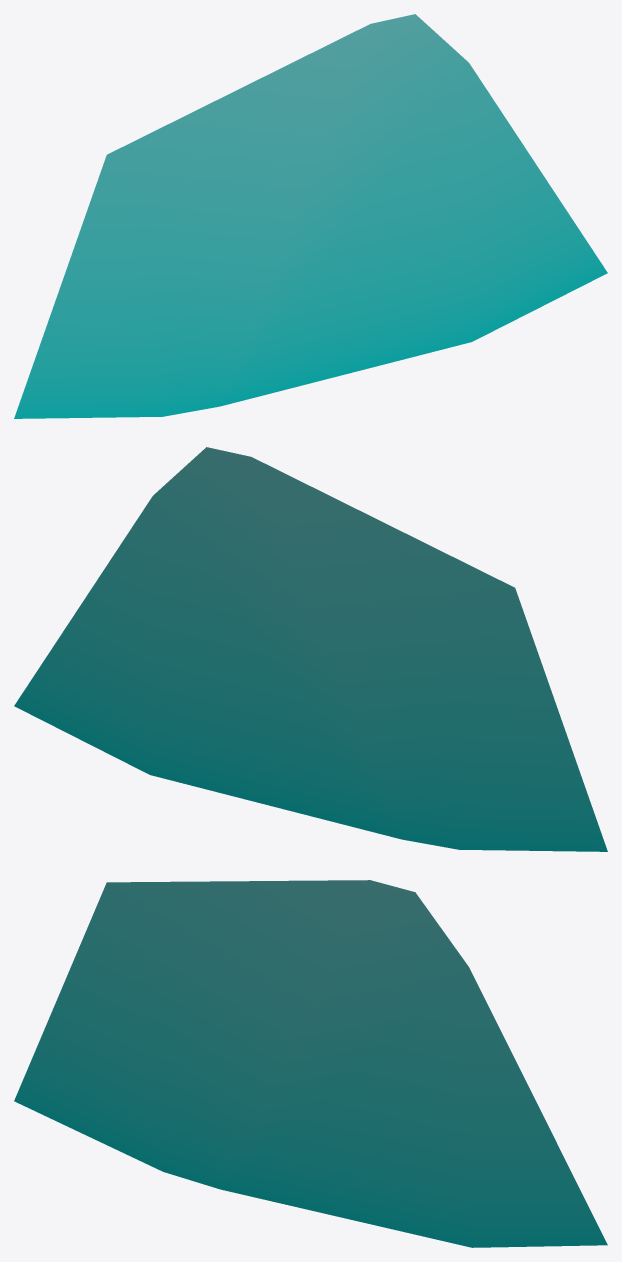
Rendered from Dead_Shrubs_vdknafgha_Low_vdknafgha_VarG_LOD3.fbx.
3 views of the same model, one above another, from view 1: azimuth 30°, elevation 25°; view 2: azimuth 150°, elevation 25°; view 3: azimuth 330°, elevation 25° (orthographic).
Visible parts, largest first — view 1: _6u26_VarG_LOD4; view 2: _6u26_VarG_LOD4; view 3: _6u26_VarG_LOD4.
Boxes of the visible parts, x1,y1,x2,y2 form: _6u26_VarG_LOD4: (14, 14, 607, 418); _6u26_VarG_LOD4: (14, 447, 607, 851); _6u26_VarG_LOD4: (14, 880, 607, 1247).
Size of the model in its own units: 118 by 65.85 by 0.
